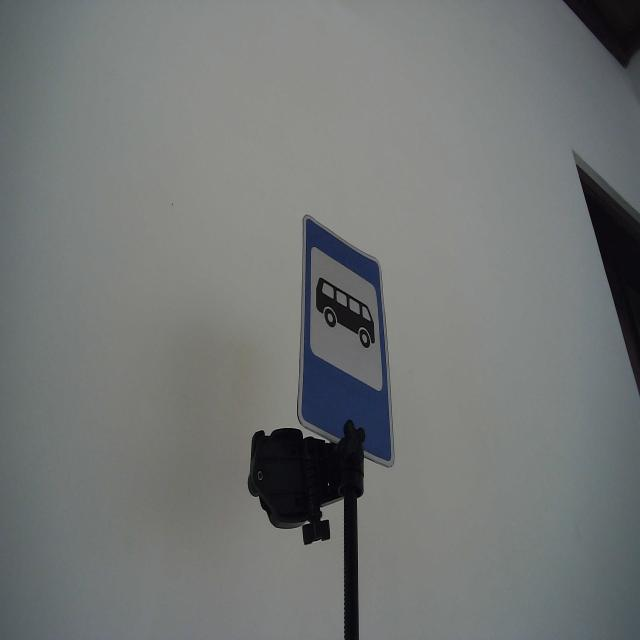bus_stop: (296, 209, 397, 466)
